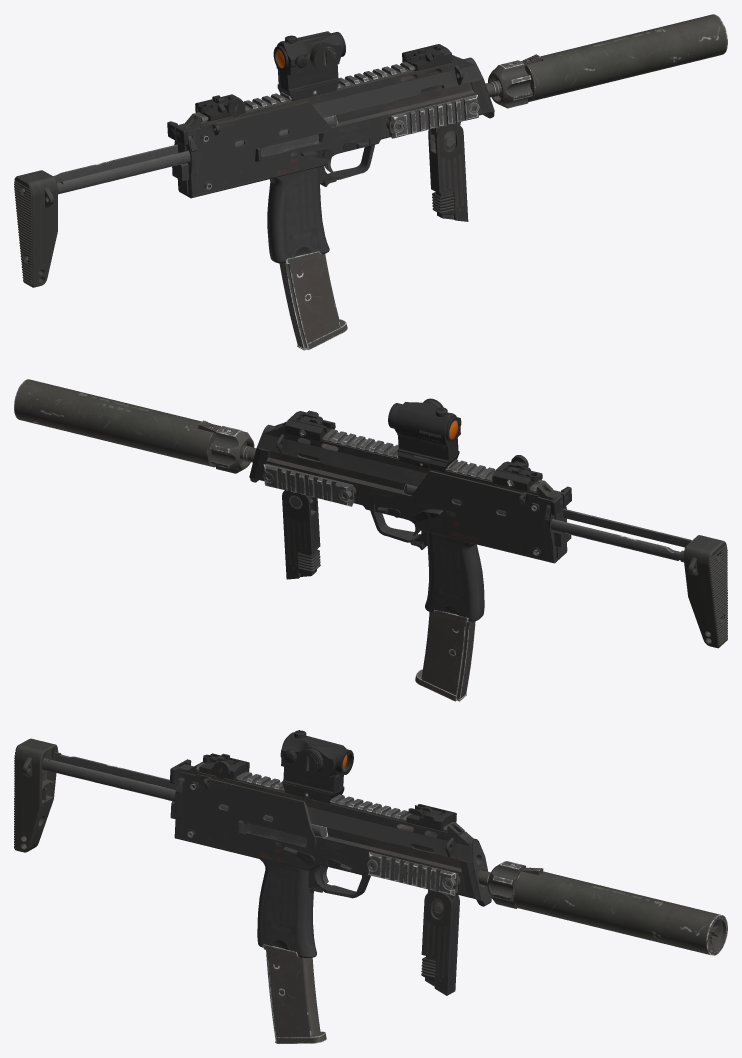
The picture shows the model from 3 angles, top to bottom: view 1: azimuth 30°, elevation 25°; view 2: azimuth 150°, elevation 25°; view 3: azimuth 330°, elevation 25°; orthographic projection.
Visible parts, largest first — view 1: base_2, silencer, mag, stock, sight, base, stock_2, foregrip, base_3; view 2: base_2, silencer, sight, stock, mag, base, stock_2, foregrip, base_3; view 3: base_2, silencer, mag, sight, stock, base, foregrip, stock_2, base_3.
Part boxes in pixels (x1,y1,x2,y2): base_2: (171,55,494,263); silencer: (485,14,727,108); mag: (279,251,347,350); stock: (14,137,197,287); sight: (273,31,345,101); base: (194,62,479,138); stock_2: (53,115,337,194); foregrip: (428,123,468,221); base_3: (195,44,501,151); base_2: (249,421,571,621); silencer: (14,379,256,473); sight: (388,398,461,472); stock: (683,535,727,648); mag: (415,609,475,701); base: (263,429,550,519); stock_2: (403,484,691,562); foregrip: (282,490,320,579); base_3: (240,410,542,517); base_2: (170,761,491,957); silencer: (478,861,727,955); mag: (263,944,326,1043); sight: (280,730,353,803); stock: (14,738,183,852); base: (196,762,458,895); foregrip: (421,890,459,995); stock_2: (42,752,328,837); base_3: (199,753,489,885).
Bounding box in the file's own units: 0.7788 × 0.3218 × 0.0583.
3 materials, 3 textured.
